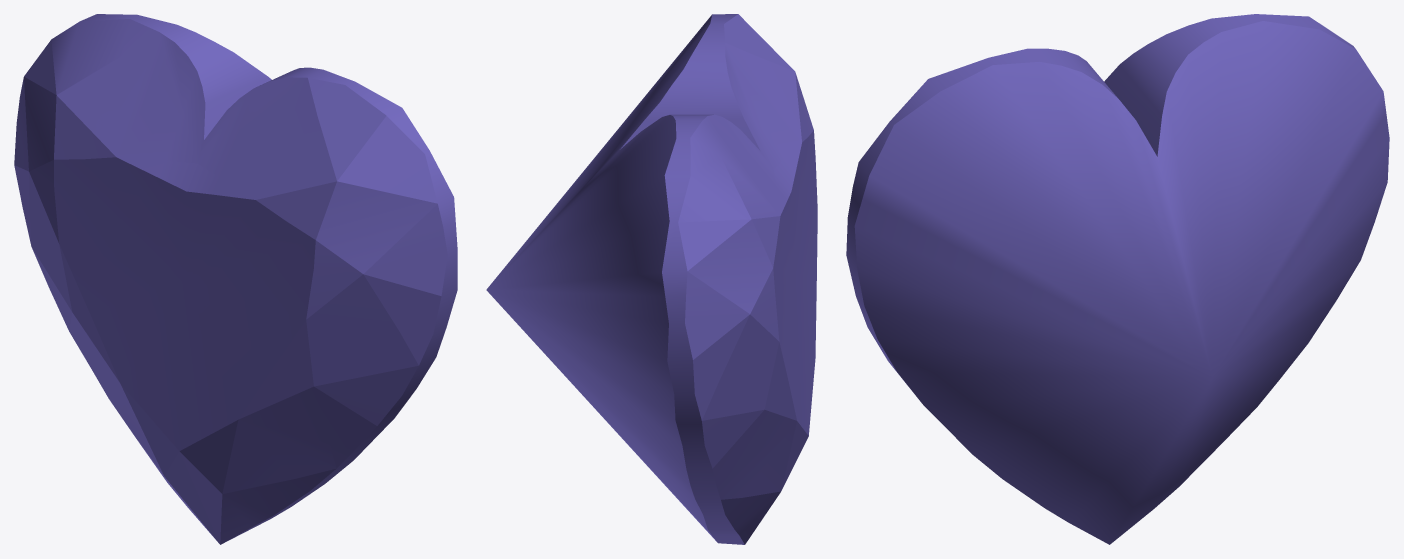
File: BL5_8shapes_heart_Classic_Stone.001 3.glb
The picture shows the model from 3 angles, left to right: view 1: azimuth 30°, elevation 25°; view 2: azimuth 150°, elevation 25°; view 3: azimuth 270°, elevation 25°; orthographic projection. The views are drawn at different scales.
Visible parts, largest first — view 1: BL5_8shapes_heart_Classic_Stone.001; view 2: BL5_8shapes_heart_Classic_Stone.001; view 3: BL5_8shapes_heart_Classic_Stone.001.
Part boxes in pixels (x1,y1,x2,y2): BL5_8shapes_heart_Classic_Stone.001: (14,14,457,544); BL5_8shapes_heart_Classic_Stone.001: (486,14,817,544); BL5_8shapes_heart_Classic_Stone.001: (846,14,1389,544).
Size of the model in its own units: 0.3125 by 0.4598 by 0.4408.
